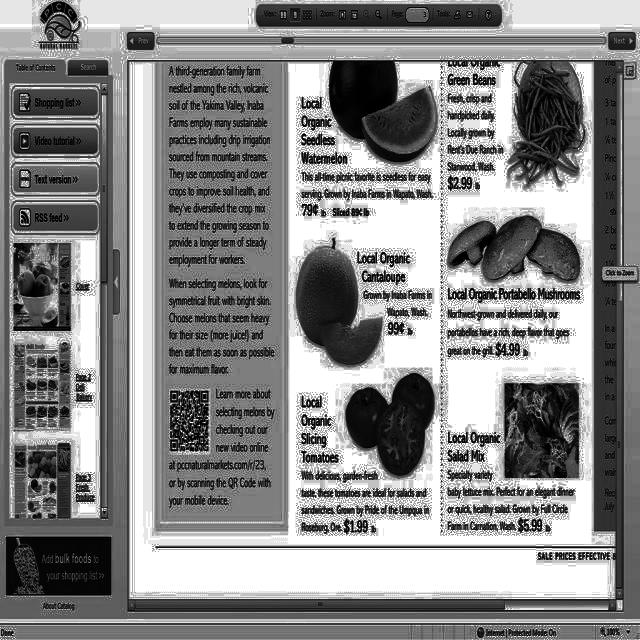qr_code: (171, 391, 208, 450)
